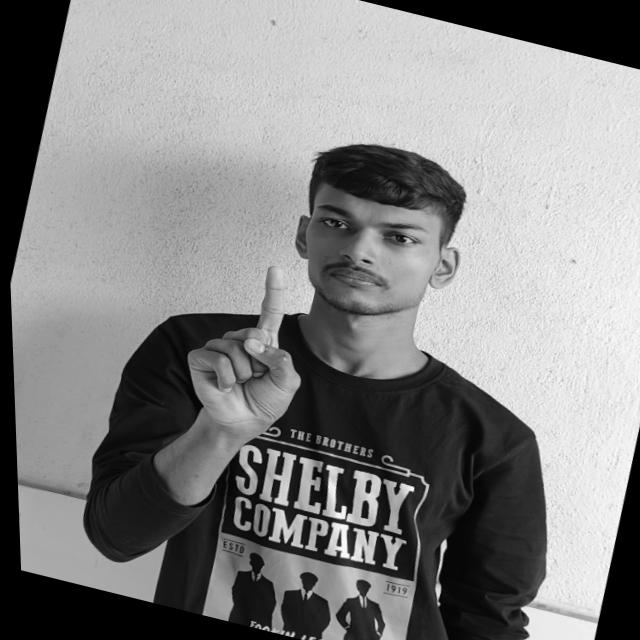Question: (163, 246, 328, 442)
